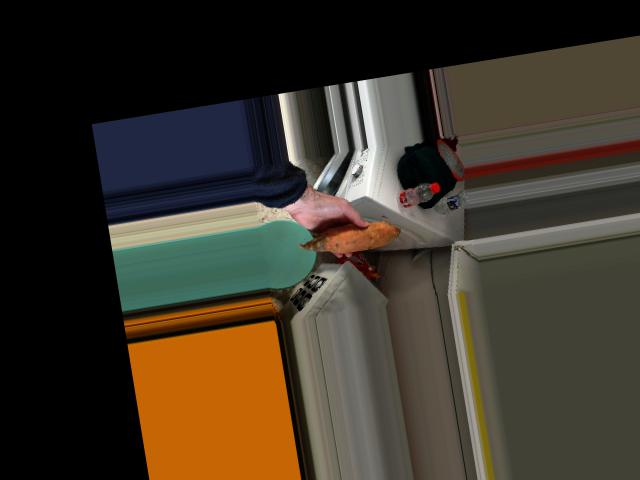sweet_potato: (311, 220, 388, 253)
